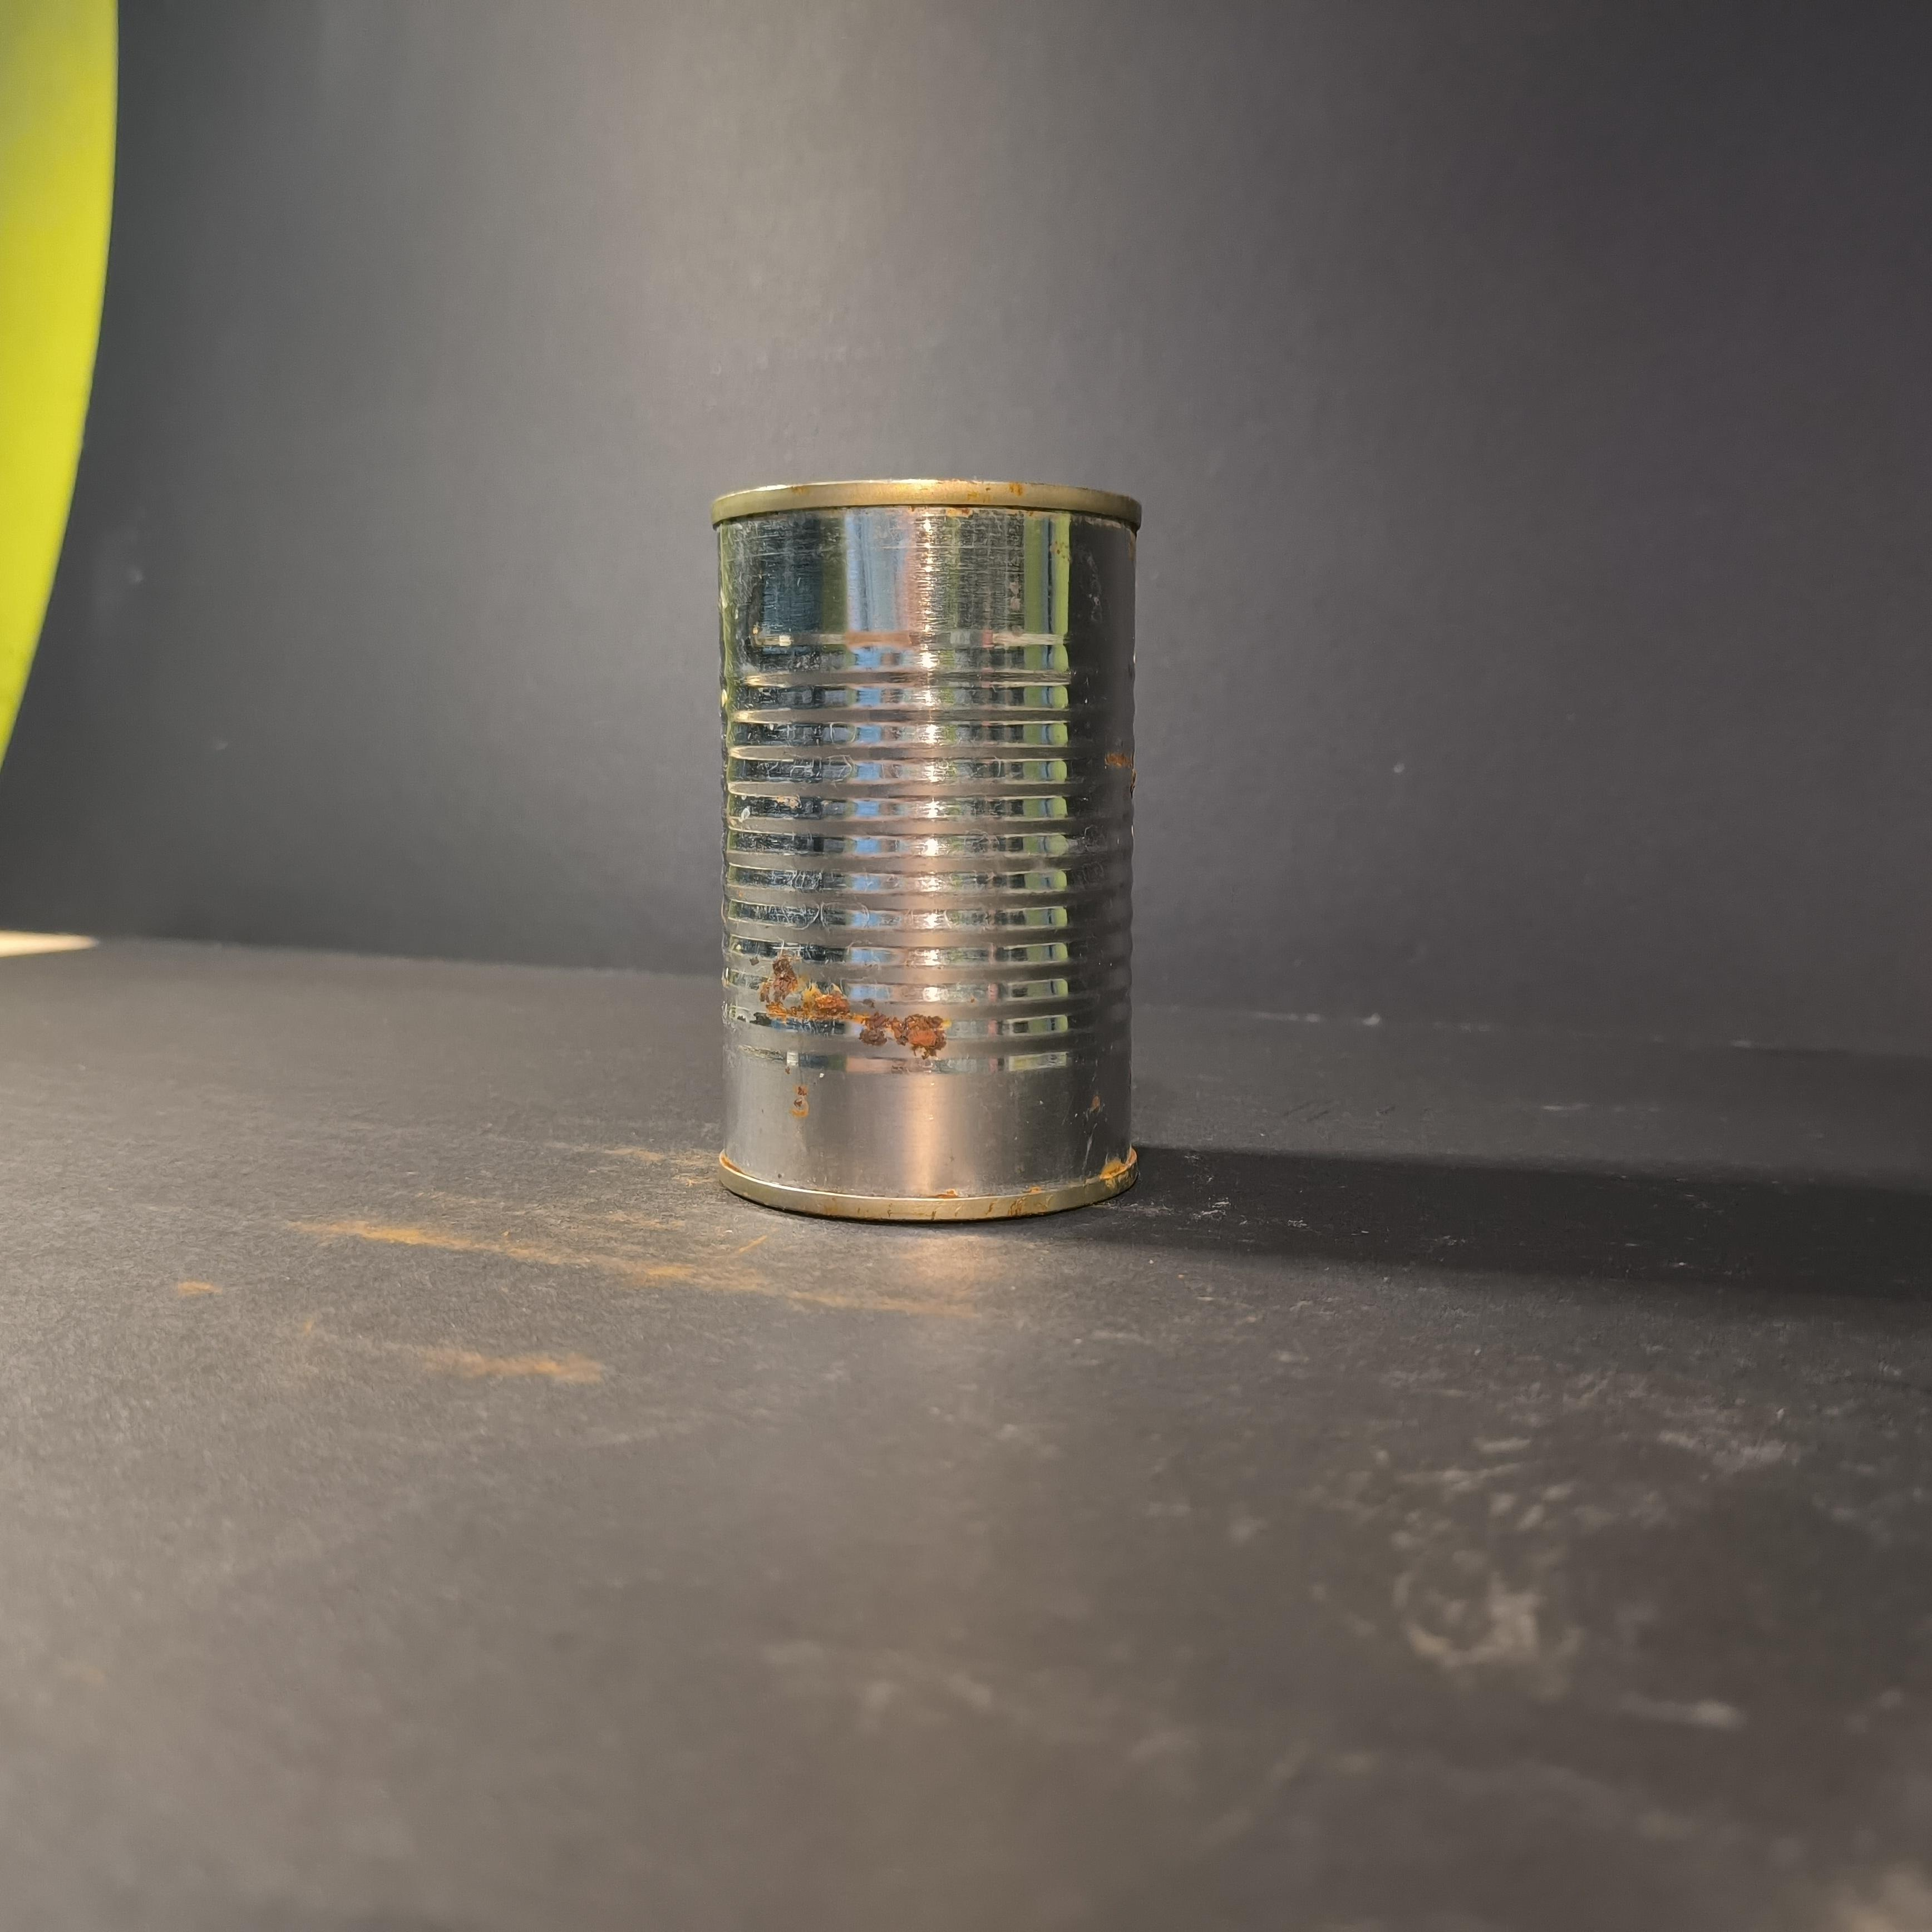Rusted: (690, 462, 1175, 1210)
